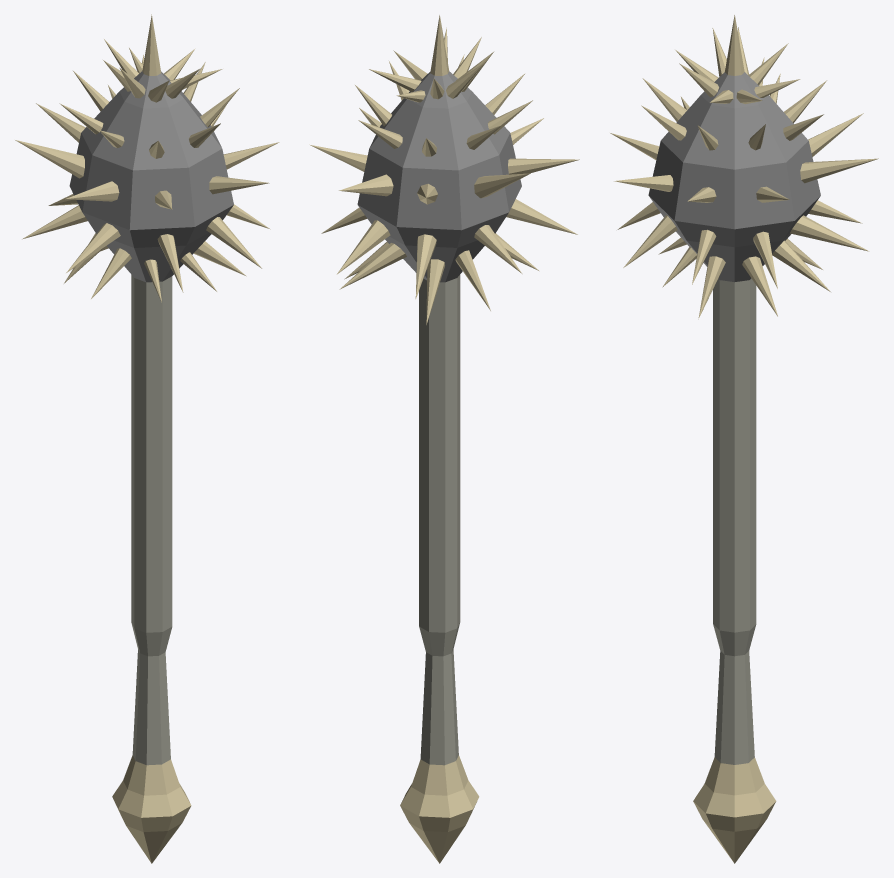
Rendered from Mace.fbx.
3 renders of one model, left to right at view 1: azimuth 30°, elevation 25°; view 2: azimuth 150°, elevation 25°; view 3: azimuth 270°, elevation 25°, orthographic.
Visible parts, largest first — view 1: Cube.001, Cube.002, Cube.005, Cube.003; view 2: Cube.002, Cube.001, Cube.005, Cube.003; view 3: Cube.002, Cube.001, Cube.005, Cube.003.
Part boxes in pixels (box(x1,y1,x2,y2)): Cube.001: box(69, 71, 233, 282); Cube.002: box(131, 275, 172, 765); Cube.005: box(15, 39, 279, 302); Cube.003: box(112, 14, 191, 863); Cube.002: box(419, 274, 460, 765); Cube.001: box(357, 71, 521, 282); Cube.005: box(309, 28, 579, 324); Cube.003: box(400, 15, 479, 863); Cube.002: box(713, 278, 756, 764); Cube.001: box(648, 72, 820, 282); Cube.005: box(610, 27, 878, 319); Cube.003: box(693, 15, 776, 863).
Size of the model in its own units: 620 by 2295 by 663.
